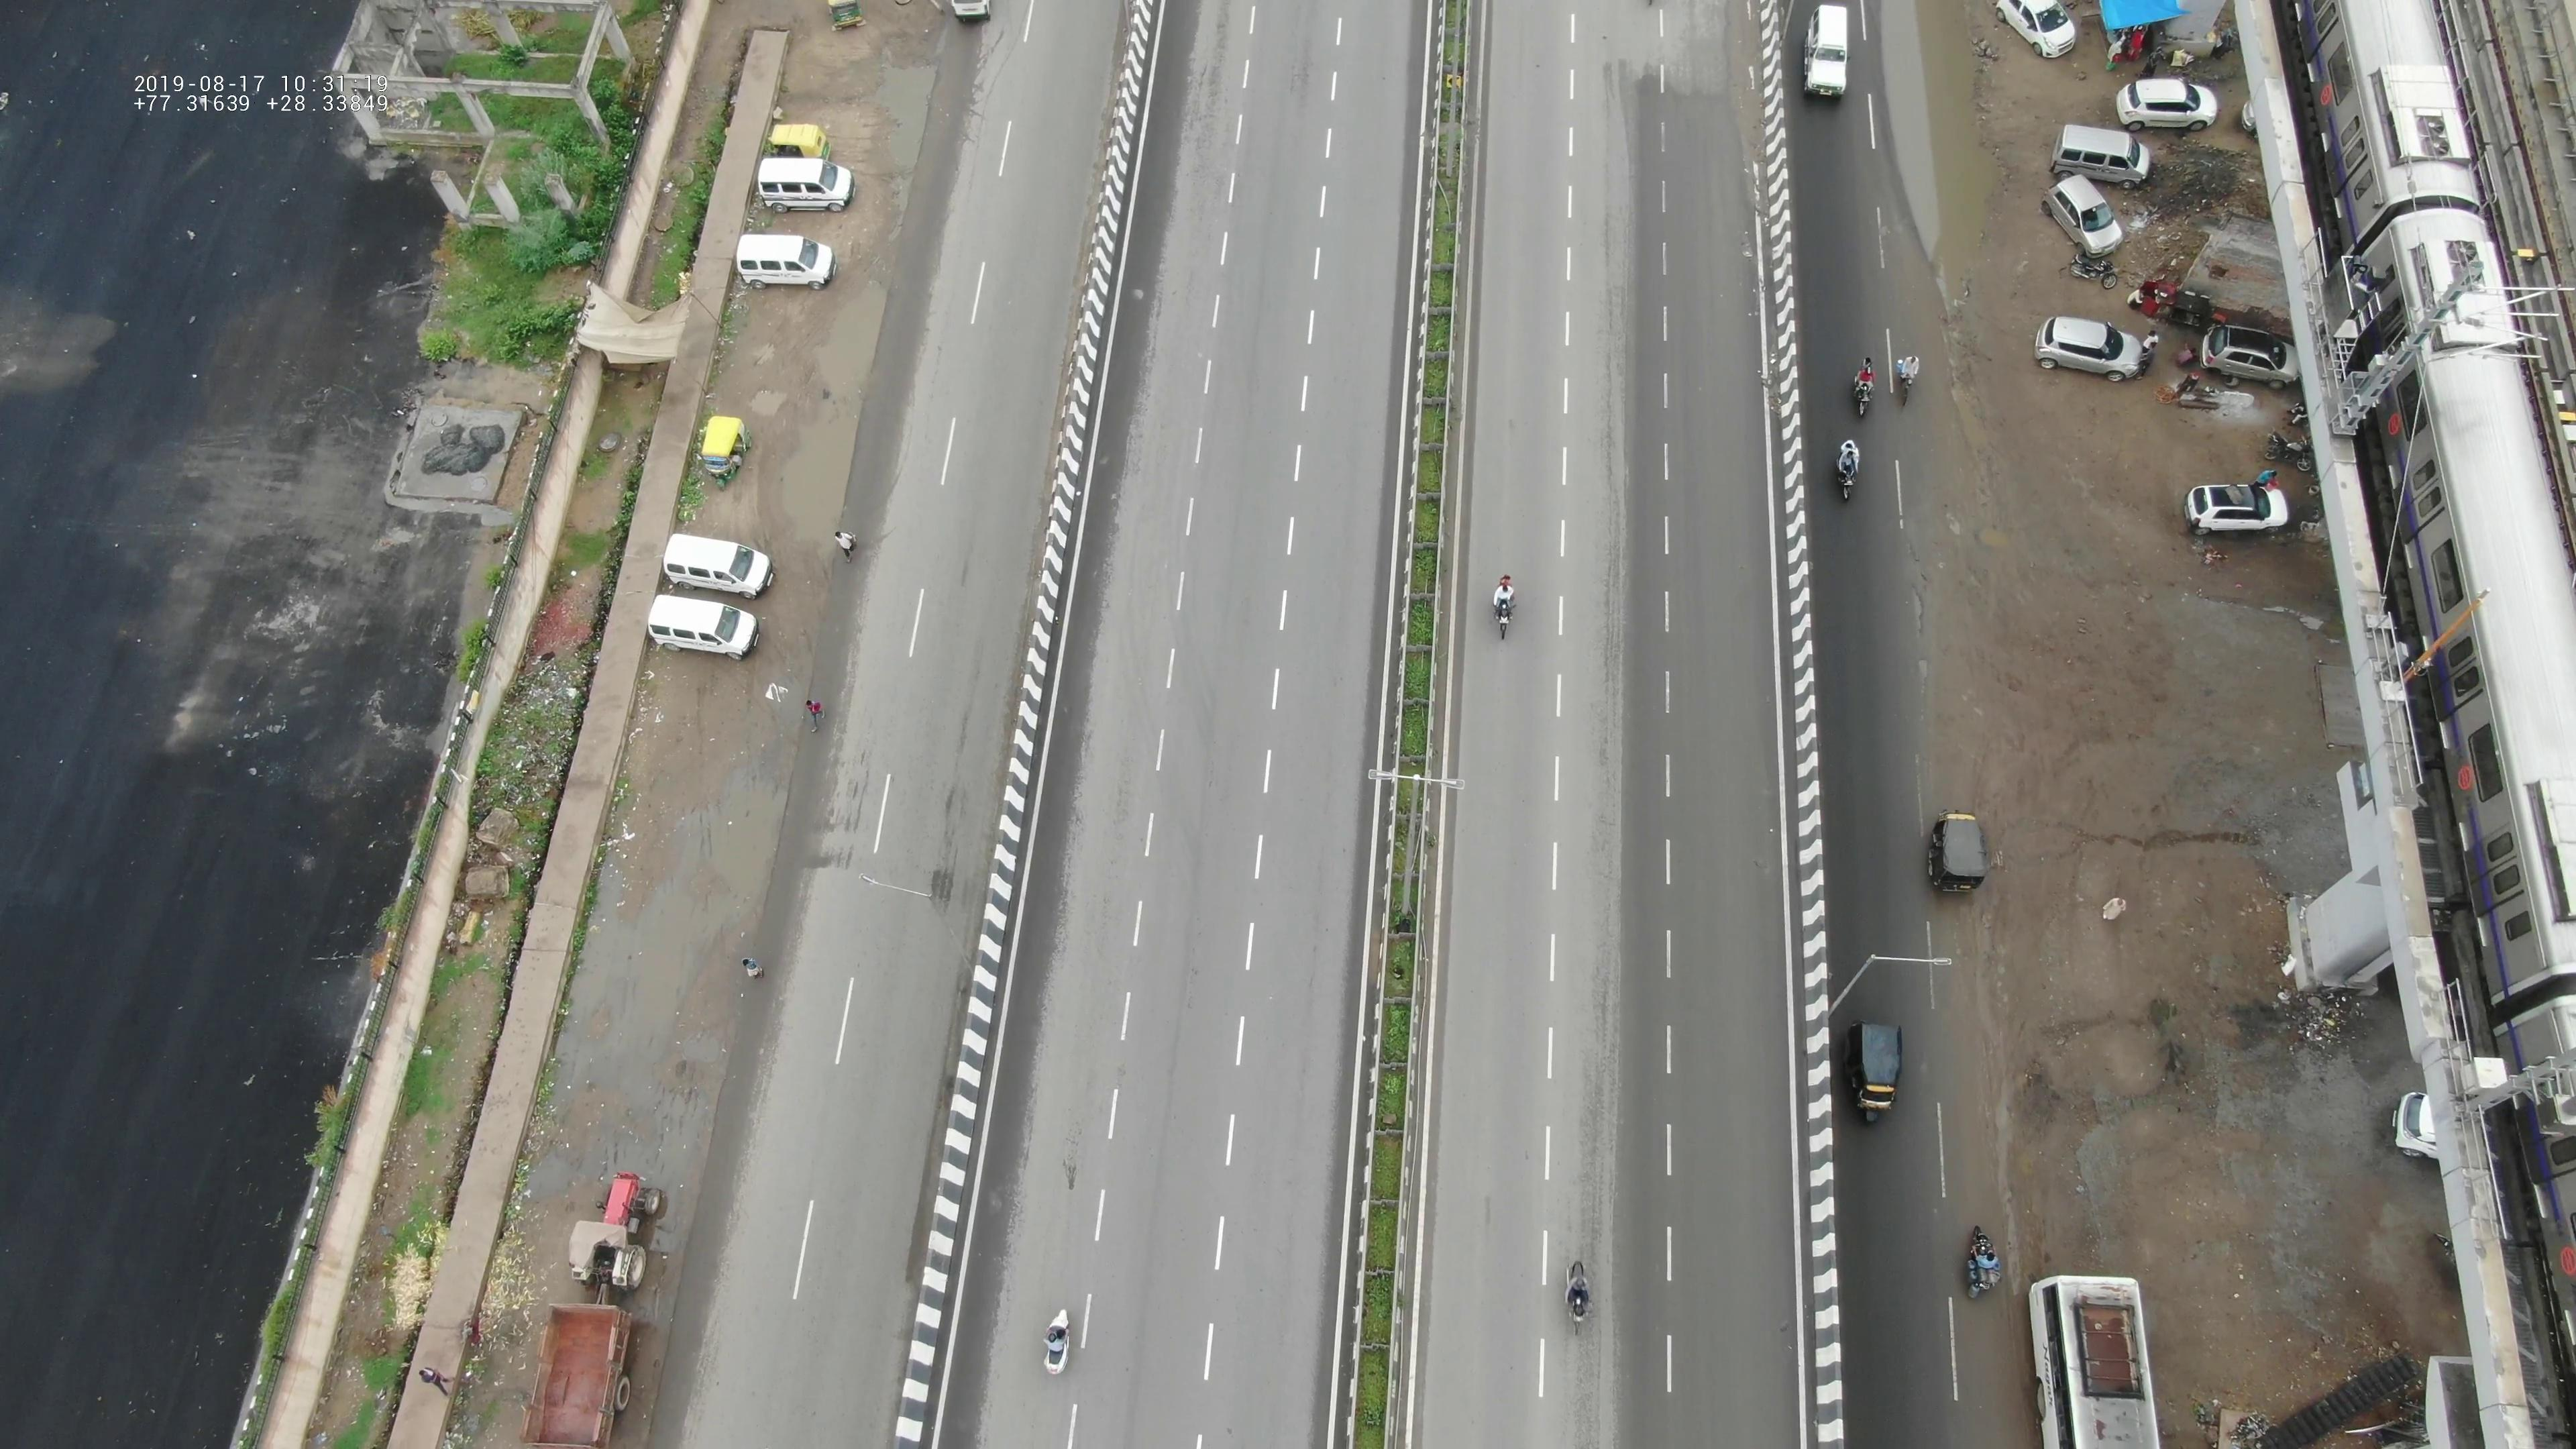Waterlogging: (1867, 4, 2003, 265), (773, 280, 899, 556)
